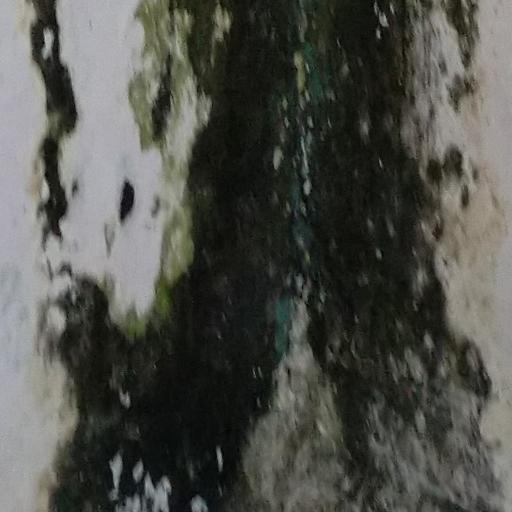algae: (46, 3, 470, 512)
